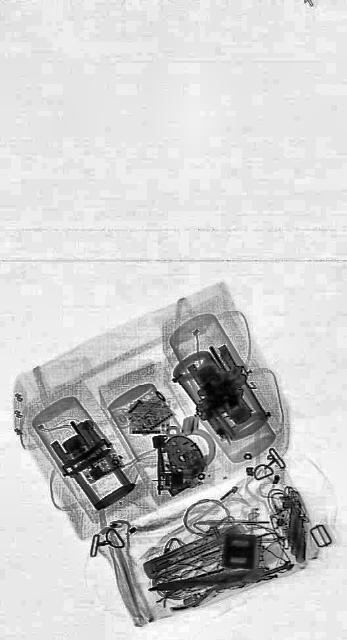Pliers: (161, 562, 245, 616)
